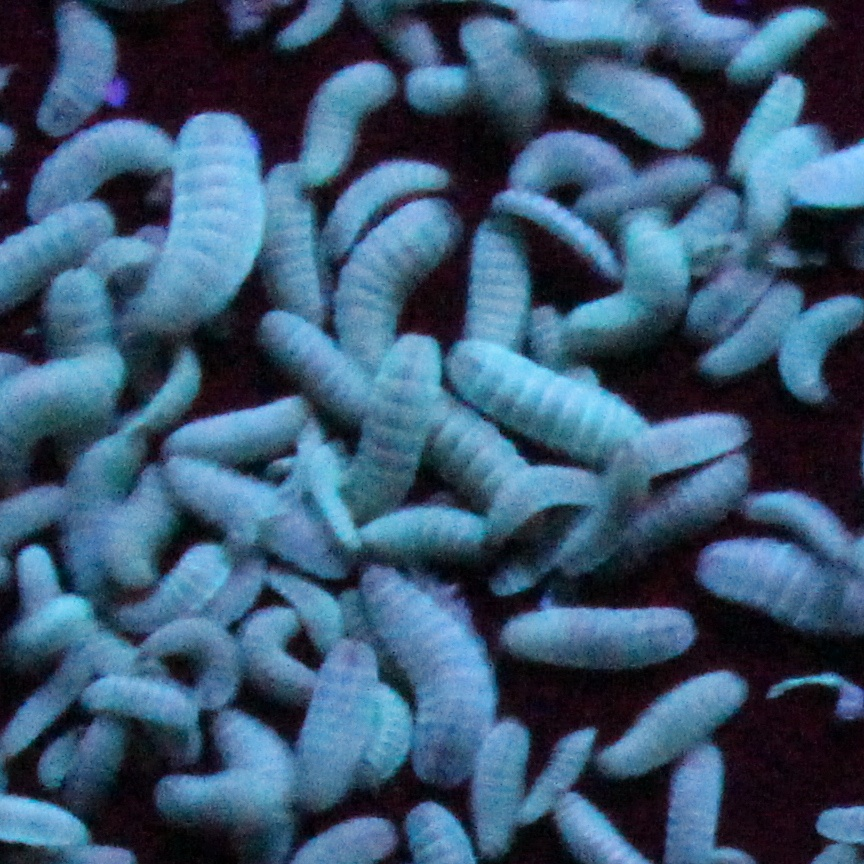larve: (358, 568, 499, 788), (137, 109, 258, 335), (444, 338, 646, 461), (337, 202, 463, 374), (340, 331, 446, 519), (594, 666, 749, 778), (290, 643, 378, 811), (25, 121, 173, 219), (489, 185, 628, 281), (504, 605, 699, 673), (315, 166, 452, 257), (294, 64, 394, 188), (254, 312, 373, 416), (149, 454, 282, 543), (563, 61, 704, 143), (108, 543, 232, 630), (37, 2, 116, 136), (268, 162, 327, 328), (463, 19, 544, 138), (163, 393, 311, 457), (702, 281, 804, 369), (749, 486, 858, 564), (139, 618, 234, 705), (496, 462, 608, 535), (728, 74, 808, 176), (470, 721, 530, 857), (506, 131, 639, 188), (721, 7, 823, 80), (9, 590, 94, 668), (151, 769, 280, 816), (270, 574, 349, 650), (359, 507, 487, 552), (130, 350, 201, 430), (123, 473, 168, 578), (370, 676, 411, 788)
